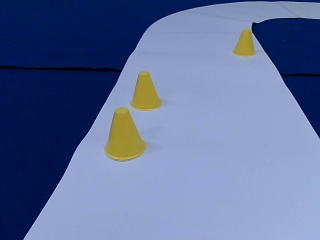cone: (105, 109, 146, 159), (130, 72, 162, 110), (233, 29, 254, 55)
